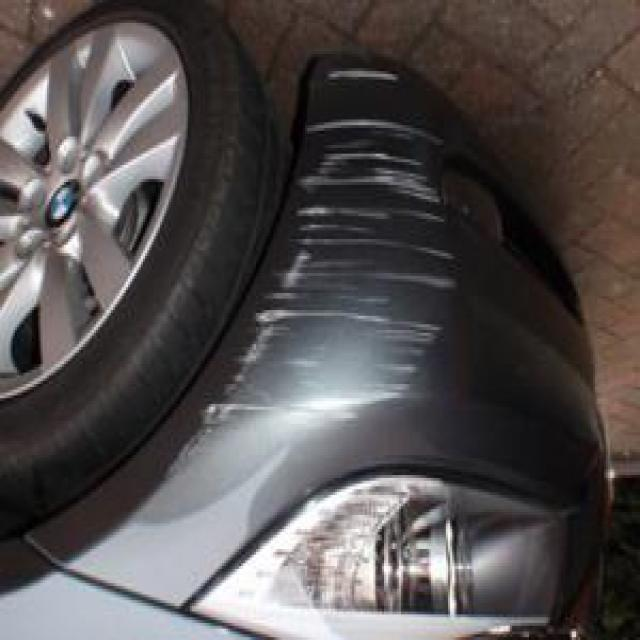scratch: (195, 74, 449, 461)
